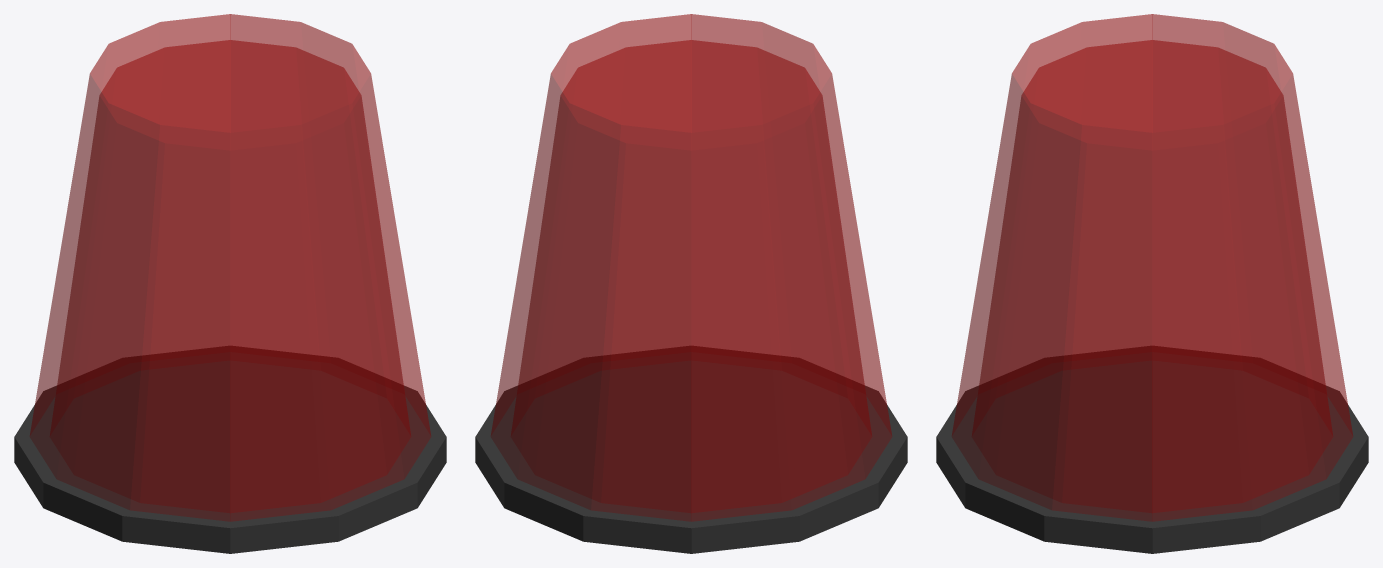
File: AlarmLight.fbx
3 views of the same model, side by side, from view 1: azimuth 30°, elevation 25°; view 2: azimuth 150°, elevation 25°; view 3: azimuth 270°, elevation 25° (orthographic).
Visible parts, largest first — view 1: alarmLight; view 2: alarmLight; view 3: alarmLight.
Part boxes in pixels (x1,y1,x2,y2): alarmLight: (14,14,446,553); alarmLight: (475,14,907,553); alarmLight: (936,14,1368,553).
Size of the model in its own units: 34.52 by 34.3 by 34.52.
